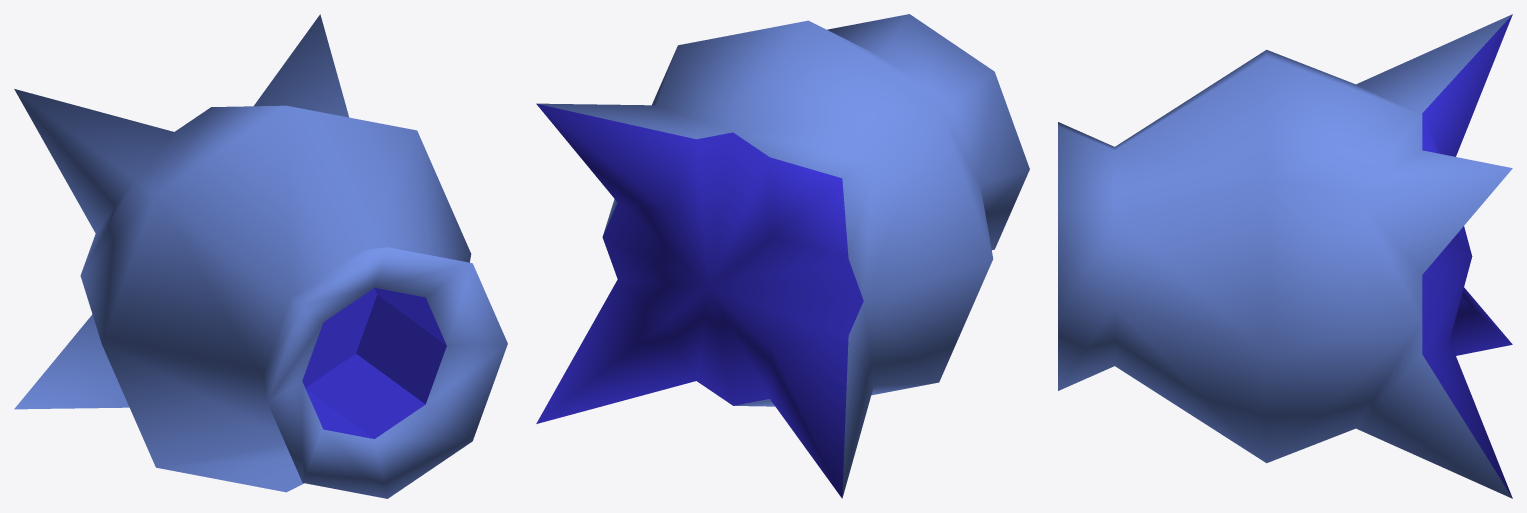
File: OctoAlien.FBX
The picture shows the model from 3 angles, left to right: view 1: azimuth 30°, elevation 25°; view 2: azimuth 150°, elevation 25°; view 3: azimuth 270°, elevation 25°; orthographic projection. The views are drawn at different scales.
Parts seen in each view (by area): view 1: Sphere014; view 2: Sphere014; view 3: Sphere014.
Part boxes in pixels (box(x1,y1,x2,y2)): Sphere014: box(14, 14, 507, 498); Sphere014: box(536, 14, 1029, 498); Sphere014: box(1058, 14, 1512, 498).
Bounding box in the file's own units: 95.16 × 95.16 × 98.34.
